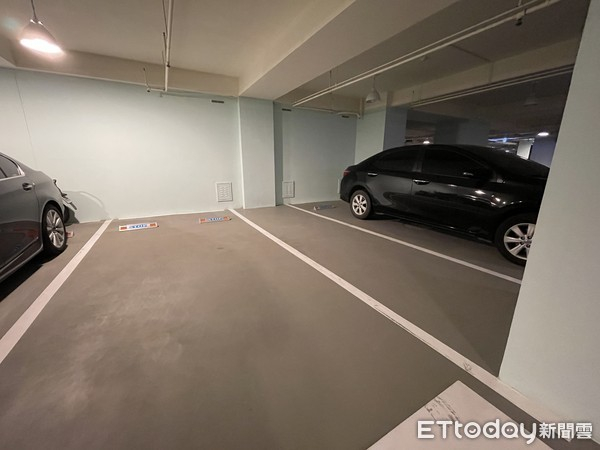car: (340, 137, 546, 261), (1, 147, 73, 292)
